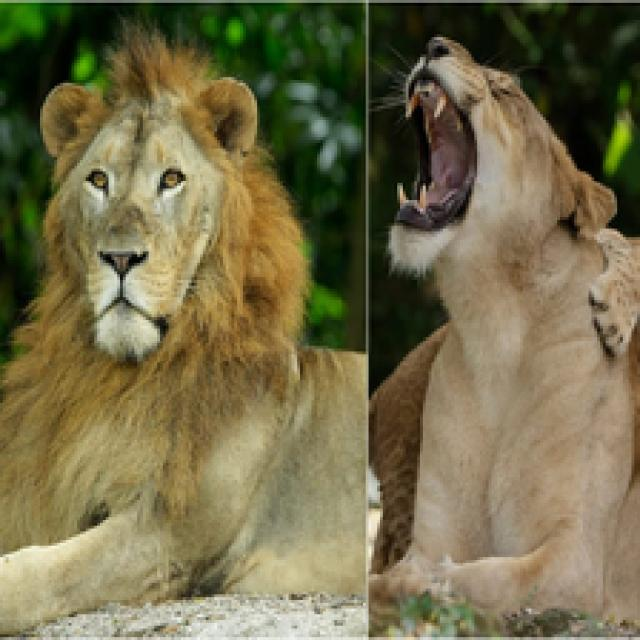lion: (0, 0, 366, 636), (382, 5, 640, 640)
